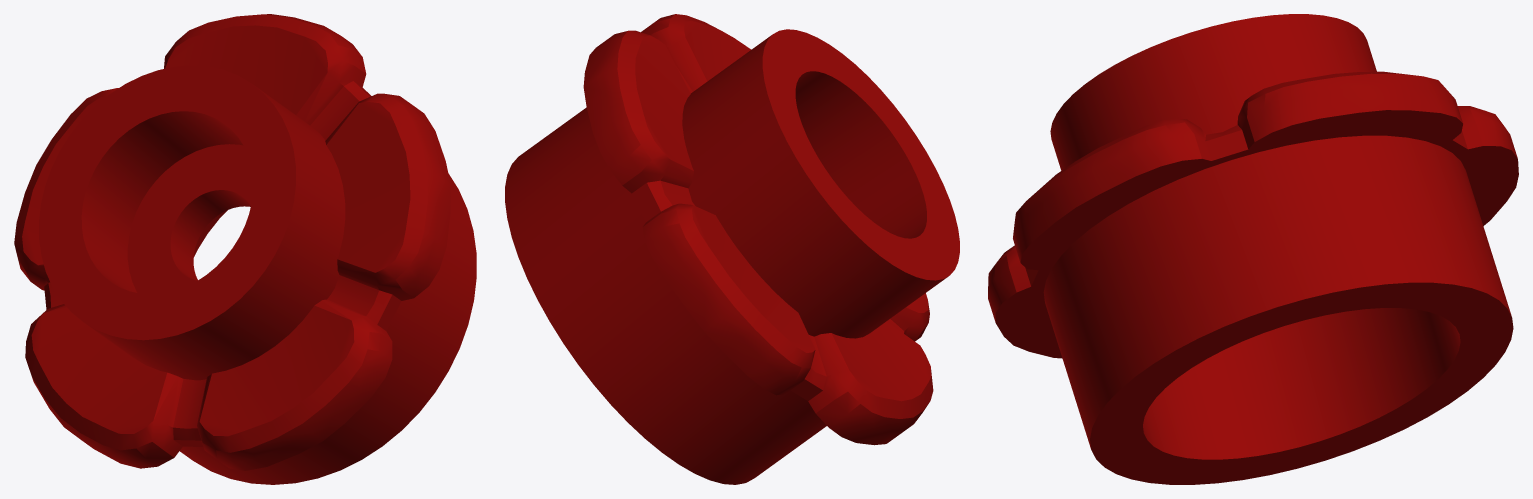
The model's file is plate_round1*1_with_flower_edge(5_petals)_red.obj.
3 renders of one model, left to right at view 1: azimuth 30°, elevation 25°; view 2: azimuth 150°, elevation 25°; view 3: azimuth 270°, elevation 25°, orthographic. The views are drawn at different scales.
Bounding box in the file's own units: 18.37 × 18.44 × 19.25.
